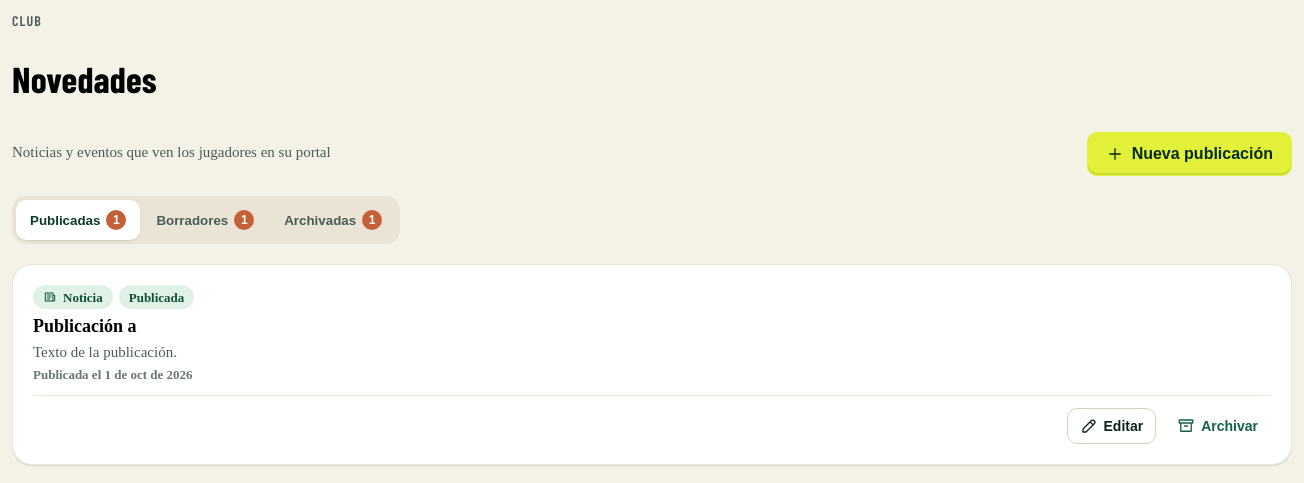
it: NewsAdminPanel — administración de publicaciones › muestra Publicadas por defecto y separa borradores y archivadas en sus pestañas
Expected: the text "Publicación a" is shown, [33,316,136,336]
Expected: the text "Publicación b" is not shown
Click the tab "Borradores 1": (205, 220) [142,200,268,240]
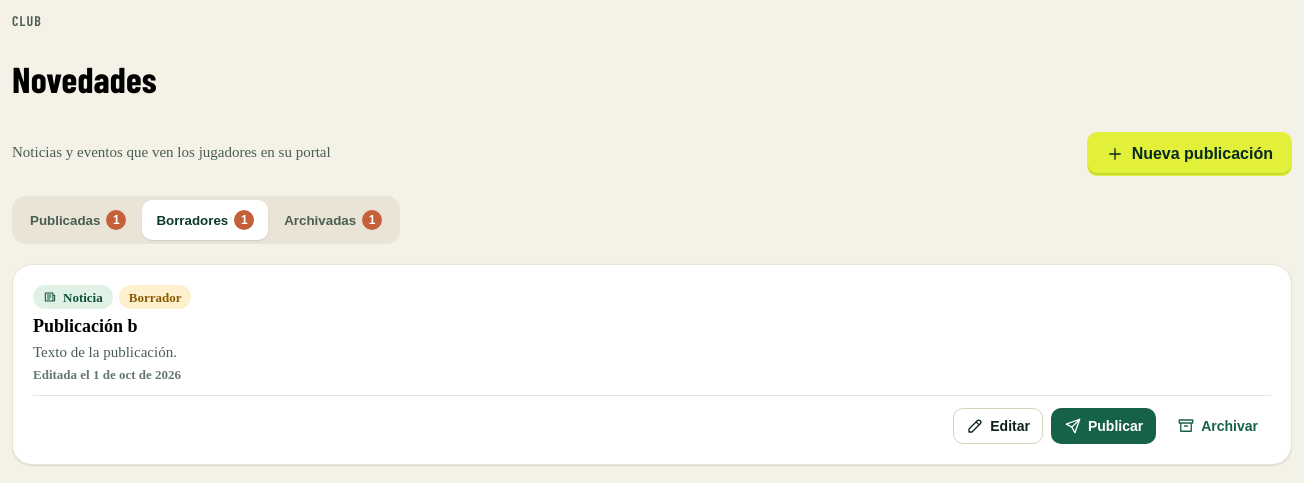
Expected: the text "Publicación b" is shown, [33,316,138,336]
Click the tab "Archivadas 1": (333, 220) [270,200,396,240]
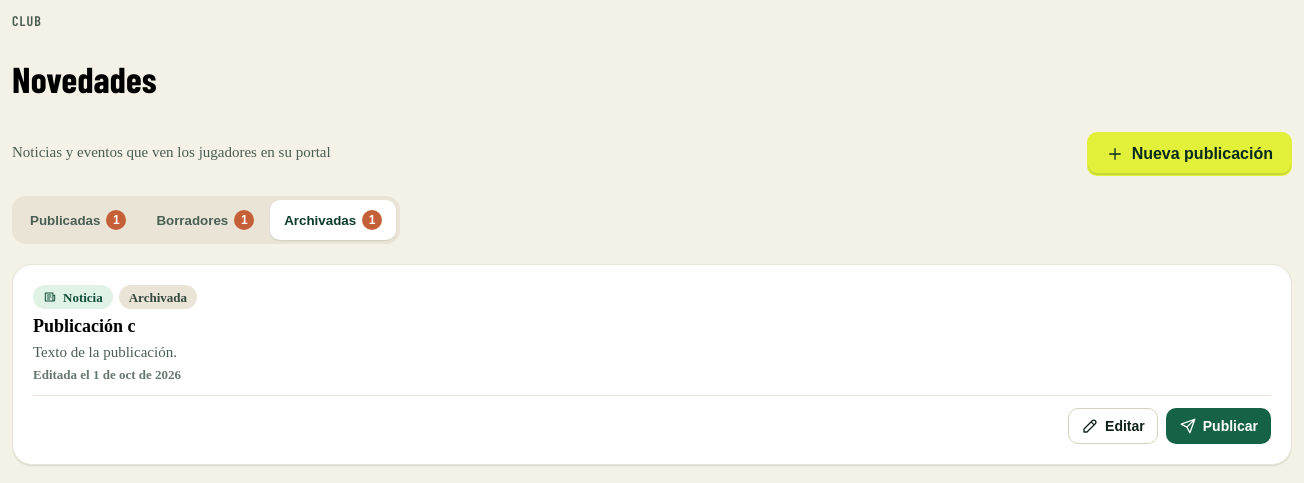
Expected: the text "Publicación c" is shown, [33,316,136,336]
